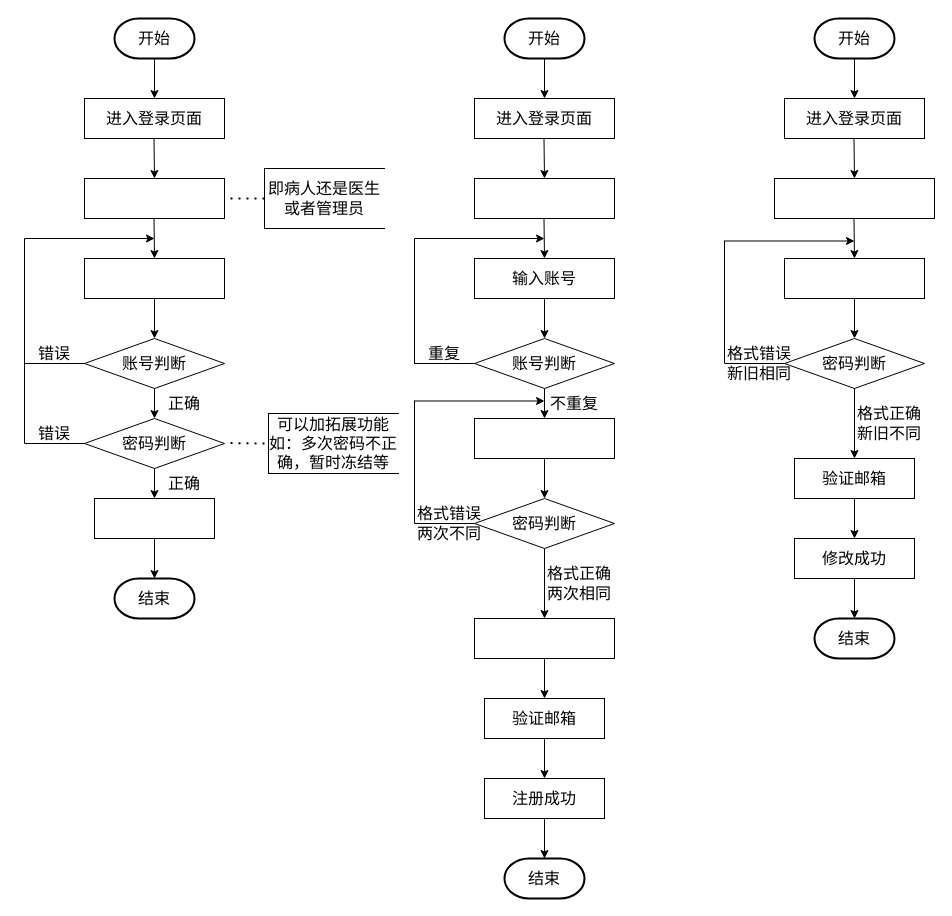
The diagram is 952 pixels wide and 916 high, and some of its shapes have lost their labels. The shapes that lost their labels are listed below. From the top down, each one's centre as x and y in pixels, then its label:
point 154,198: 选择登录类型
point 544,198: 点击进入注册界面
point 854,198: 点击进入改密码界面
point 154,278: 输入账号密码
point 854,278: 输入新密码
point 544,438: 输入密码
point 154,518: 登录成功
point 544,638: 出入其他必要信息
